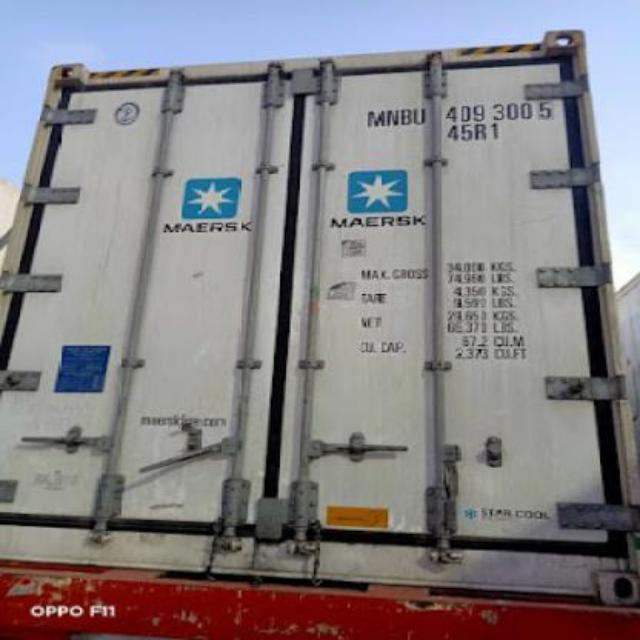0: (516, 97, 534, 123), (456, 100, 472, 124), (504, 99, 520, 123)
3: (488, 98, 506, 122)
4: (442, 101, 460, 125)
5: (536, 100, 552, 118)
9: (470, 100, 486, 124)
B: (398, 102, 412, 130)
M: (362, 101, 383, 133)
N: (382, 105, 400, 131)
U: (412, 104, 428, 132)
